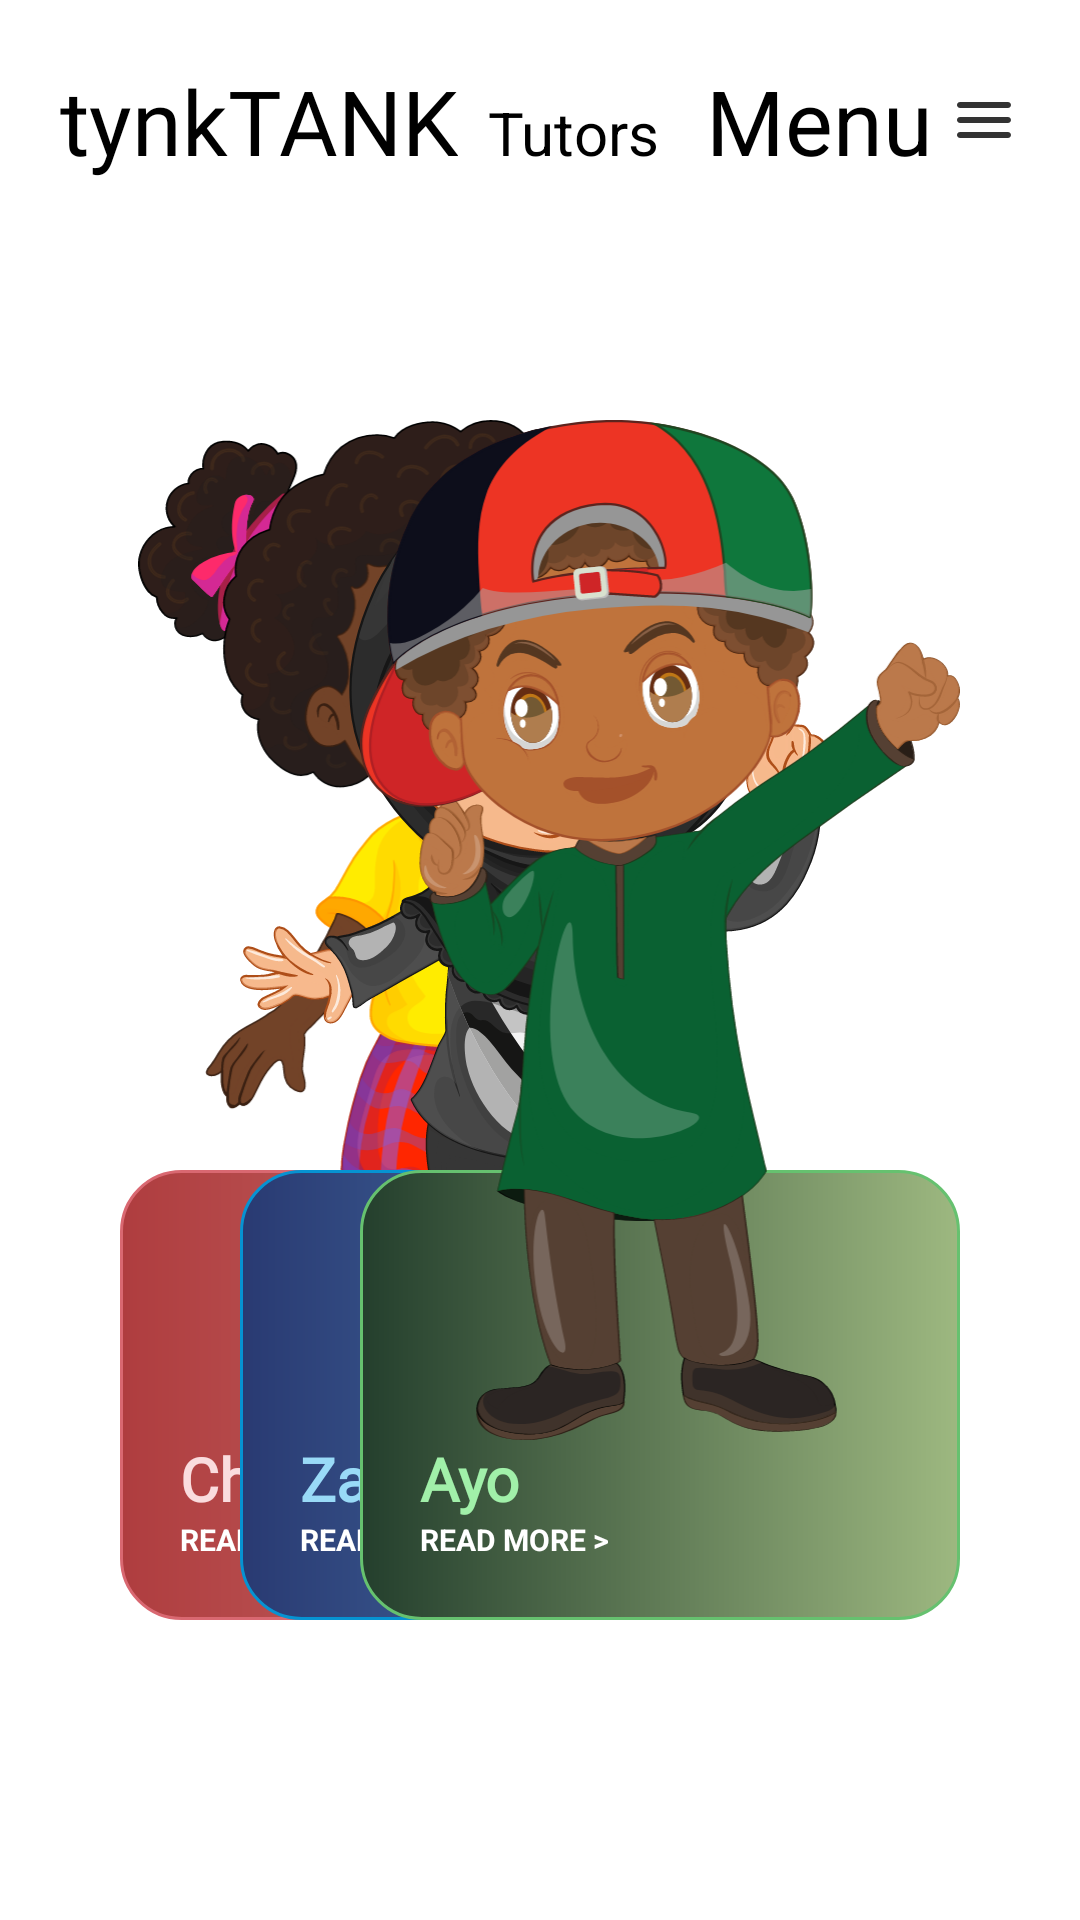

Screen size 1080*1920. Icon name, then its box in pixels as (x1, y1, x2, y2):
hamburger: (957, 102, 1011, 138)
